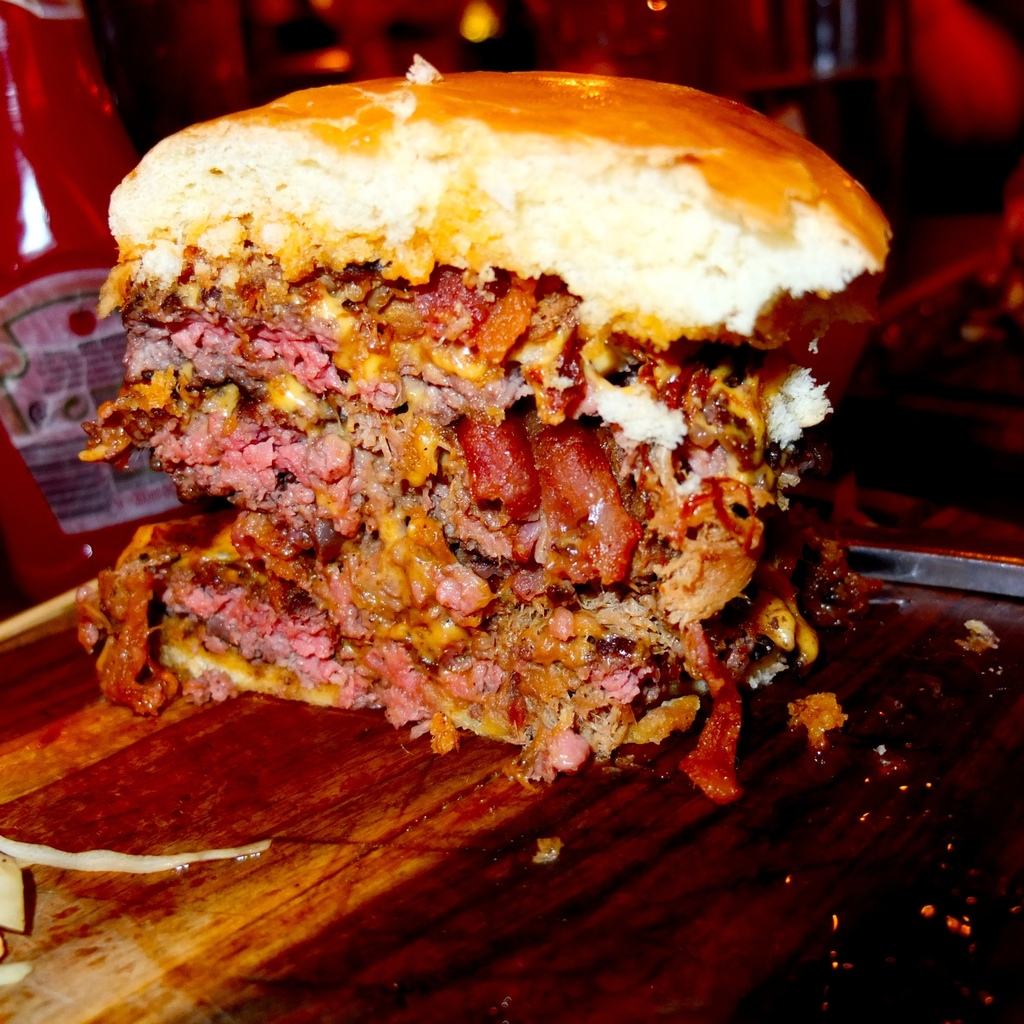Hamburger: (80, 52, 894, 805)
